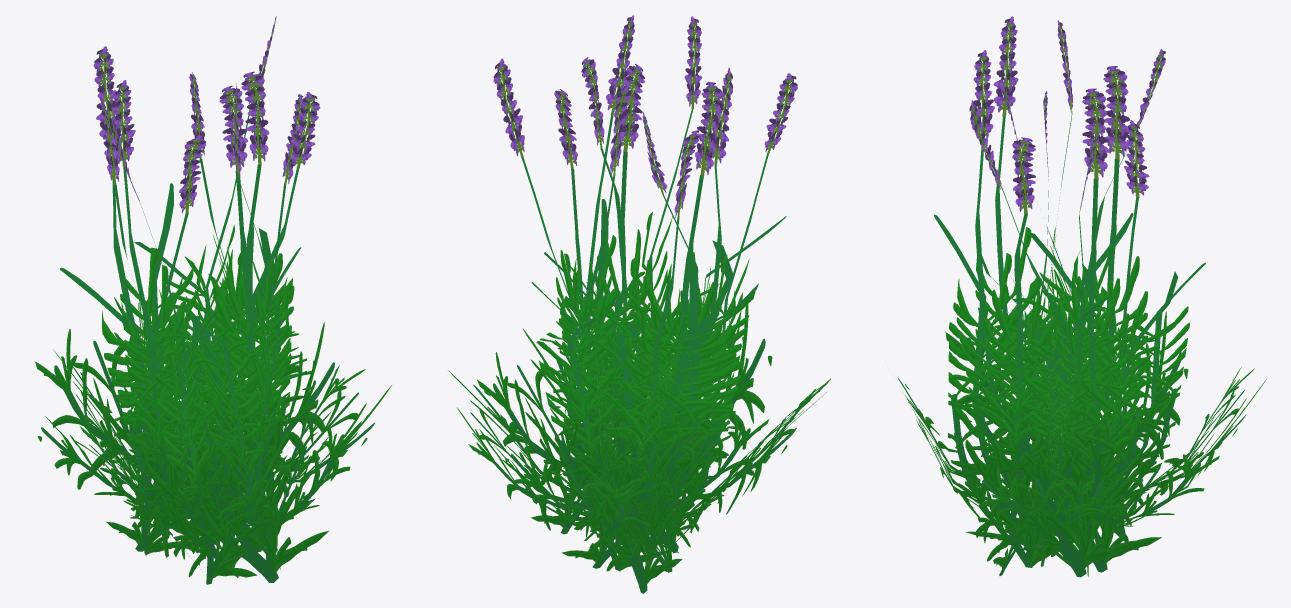
File: PT_Lavender_01.fbx
3 renders of one model, left to right at view 1: azimuth 30°, elevation 25°; view 2: azimuth 150°, elevation 25°; view 3: azimuth 270°, elevation 25°, orthographic. The views are drawn at different scales.
Visible parts, largest first — view 1: PT_Lavender_01_LOD0; view 2: PT_Lavender_01_LOD0; view 3: PT_Lavender_01_LOD0.
Boxes of the visible parts, <box> form: PT_Lavender_01_LOD0: <box>35,16,391,584</box>; PT_Lavender_01_LOD0: <box>448,15,830,593</box>; PT_Lavender_01_LOD0: <box>897,16,1266,577</box>.
Size of what is drawn, in the model's own units: 69.77 by 94.82 by 68.29.
